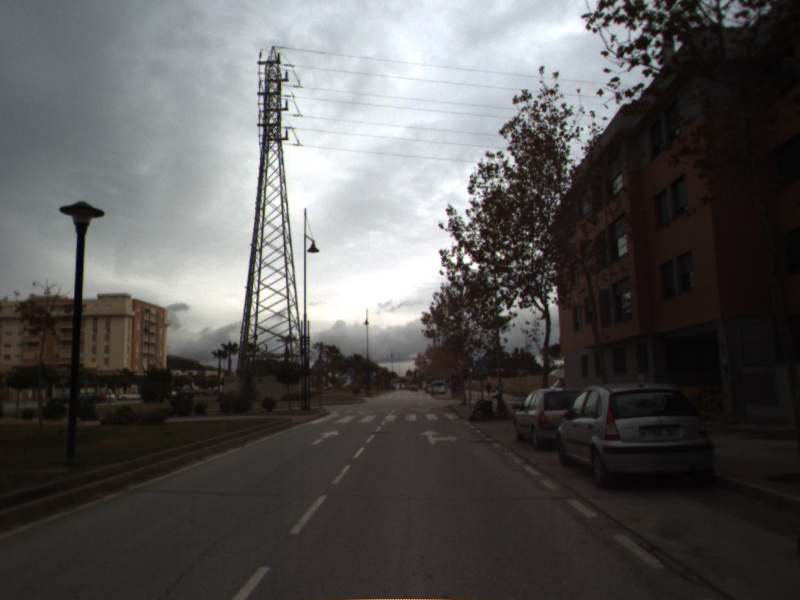STRAIGHT: (309, 428, 342, 447)
STRAIGHT_RIGHT: (417, 428, 461, 447)
